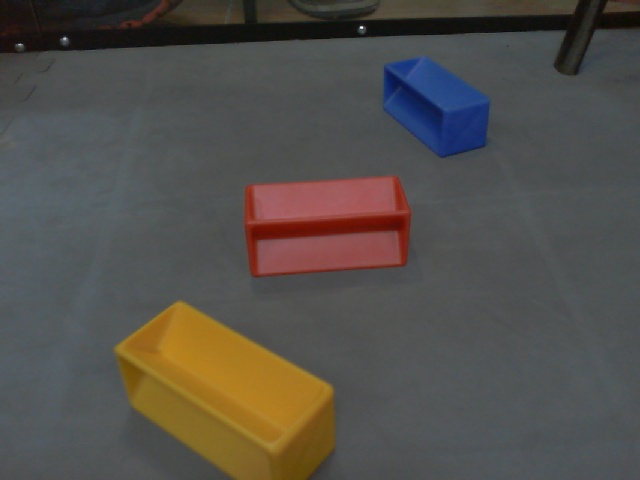BlueSample: (380, 55, 491, 160)
RedSample: (242, 174, 411, 279)
YellowSample: (109, 295, 338, 480)
